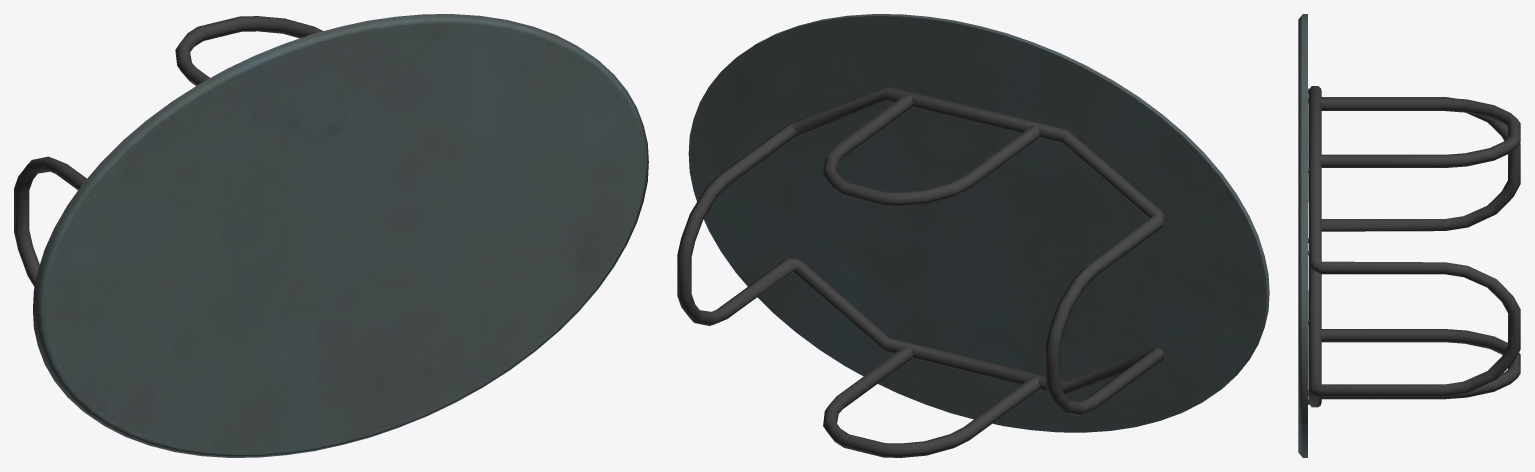
The model's file is nt_2020_glass_table_LOD0.obj.
The picture shows the model from 3 angles, left to right: view 1: azimuth 30°, elevation 25°; view 2: azimuth 150°, elevation 25°; view 3: azimuth 270°, elevation 25°; orthographic projection. The views are drawn at different scales.
Parts seen in each view (by area): view 1: mtl_nt_2020_glass_table, mtl_nt_2020_glass_table_metal; view 2: mtl_nt_2020_glass_table, mtl_nt_2020_glass_table_metal; view 3: mtl_nt_2020_glass_table_metal, mtl_nt_2020_glass_table.
Boxes of the visible parts, x1,y1,x2,y2 form: mtl_nt_2020_glass_table: (33,14,648,457); mtl_nt_2020_glass_table_metal: (14,16,323,286); mtl_nt_2020_glass_table: (688,14,1269,432); mtl_nt_2020_glass_table_metal: (677,86,1163,457); mtl_nt_2020_glass_table_metal: (1308,86,1520,407); mtl_nt_2020_glass_table: (1298,14,1307,457).
Size of the model in its own units: 231 by 150 by 83.73.
